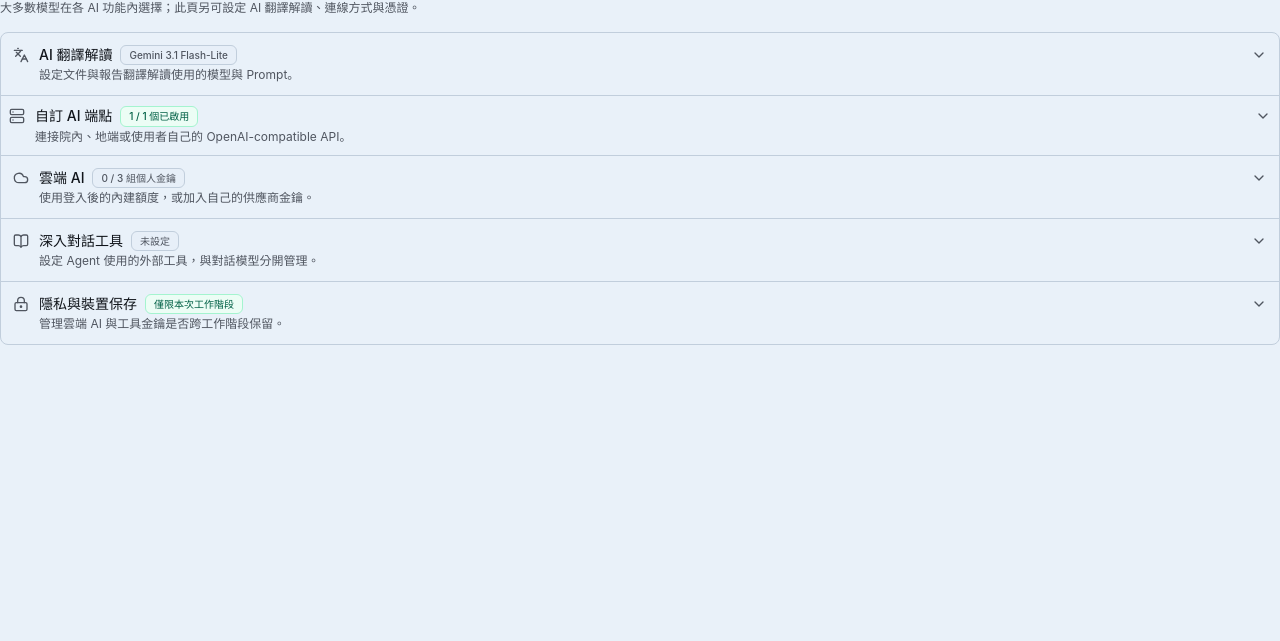
Test: ModelAndKeySettings progressive disclosure › checks Agent support and automatically saves a verified result
What coordinates should you click on to do the following:
click the button "自訂 AI 端點 1 / 1 個已啟用 連接院內、地端或使用者自己的 OpenAI-compatible API。"
I would click on:
 (74, 116)
Its box is top-left (9, 96), bottom-right (1271, 155).
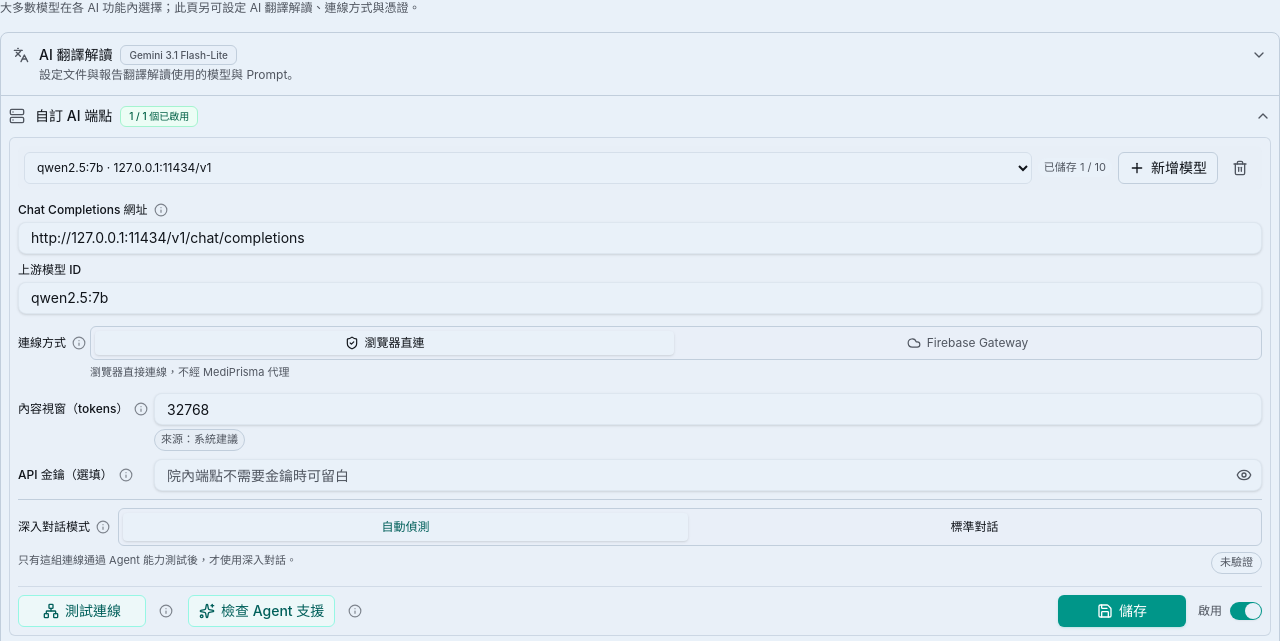
Expected: the radio button labelled "自動偵測" is checked, top-left (123, 513), bottom-right (688, 541)
Expected: the radio button labelled "標準對話" is not checked, top-left (950, 519), bottom-right (998, 534)
Expected: the text named "Agent 能力: 未驗證" is shown, top-left (1211, 552), bottom-right (1262, 574)
What coordinates should you click on to do the following:
click the button "檢查 Agent 支援"
I would click on:
 (262, 611)
Its box is top-left (188, 595), bottom-right (335, 627).
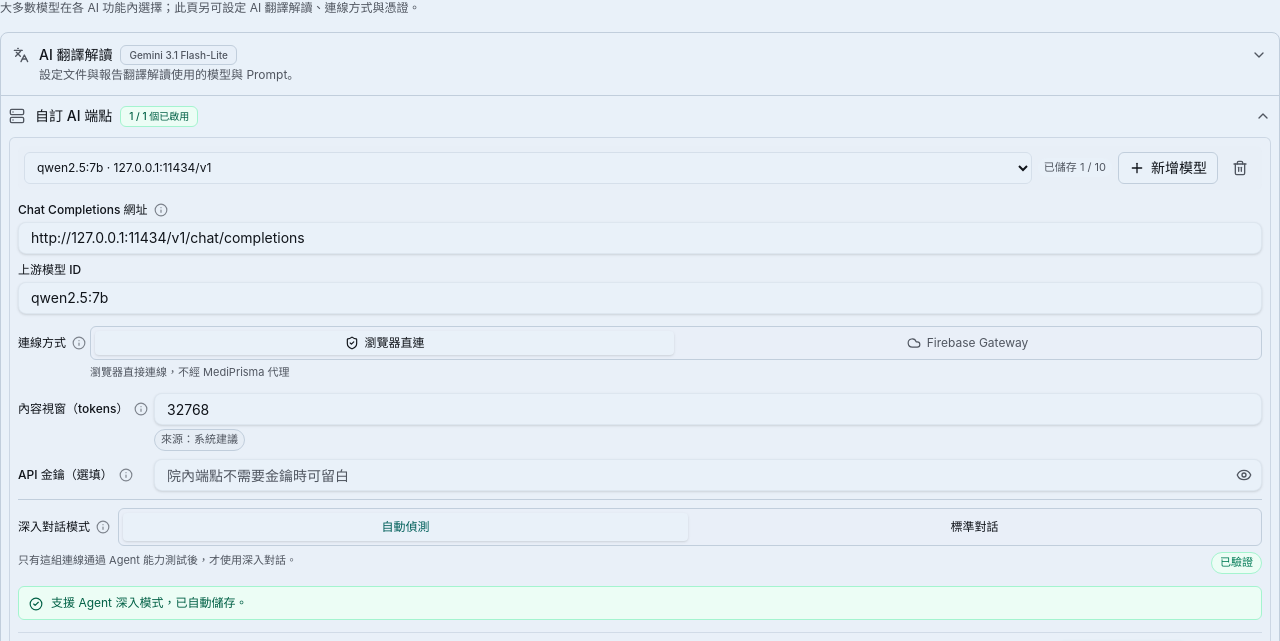
Expected: the text "支援 Agent 深入模式，已自動儲存。" is shown, top-left (51, 595), bottom-right (247, 610)
Expected: the text named "Agent 能力: 已驗證" is shown, top-left (1211, 552), bottom-right (1262, 574)
